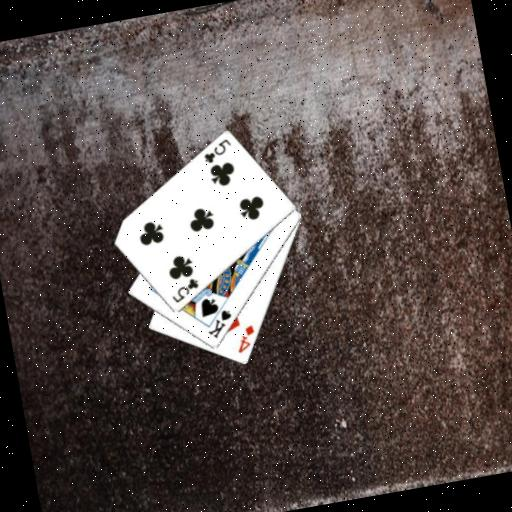4D: (230, 321, 259, 355)
5C: (198, 135, 235, 166), (166, 274, 202, 305)
KS: (201, 305, 237, 341)
